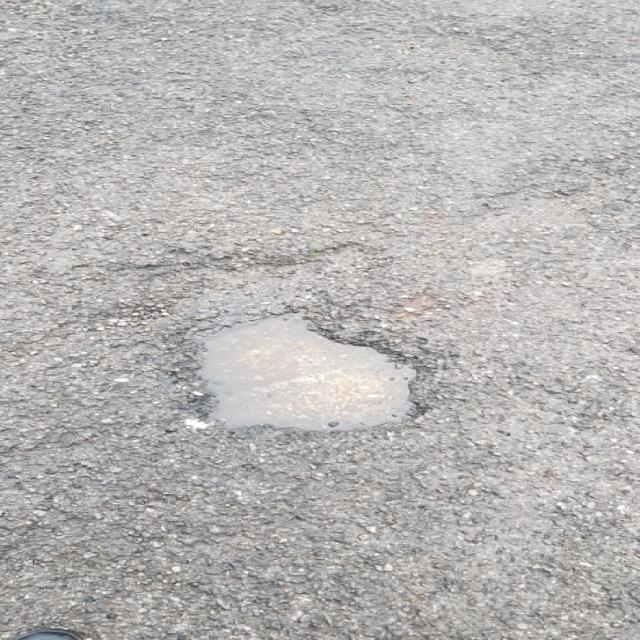Pothole: (163, 300, 429, 438)
